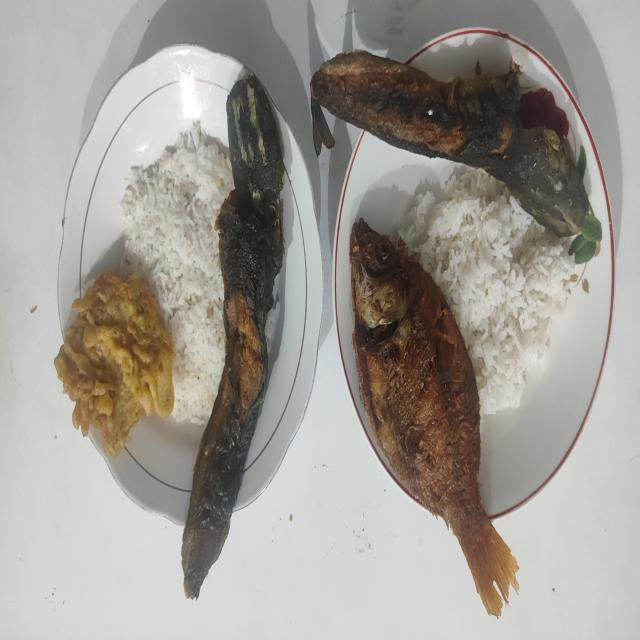ikan_mujair: (350, 218, 518, 616)
nasi_putih: (383, 165, 575, 419), (121, 122, 234, 424)
